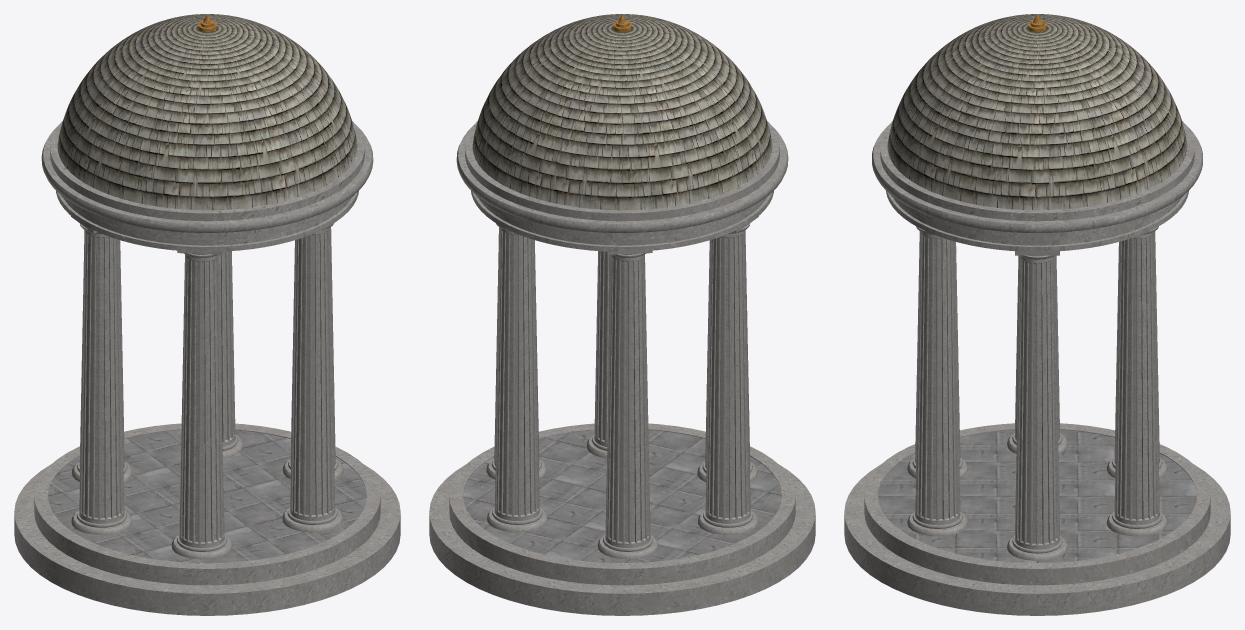
File: fbxMonopteros.fbx
3 views of the same model, side by side, from view 1: azimuth 30°, elevation 25°; view 2: azimuth 150°, elevation 25°; view 3: azimuth 270°, elevation 25° (orthographic).
Visible parts, largest first — view 1: dome, floor, Column18, Column15, Column17, Column20, Column16, Column19; view 2: dome, floor, Column19, Column15, Column20, Column17, Column16, Column18; view 3: dome, floor, Column16, Column17, Column20, Column15, Column19, Column18.
Boxes of the visible parts, x1=… form: dome: x1=41, y1=14, x2=373, y2=251; floor: x1=14, y1=423, x2=400, y2=615; Column18: x1=171, y1=250, x2=232, y2=559; Column15: x1=71, y1=216, x2=132, y2=534; Column17: x1=282, y1=223, x2=342, y2=532; Column20: x1=219, y1=251, x2=243, y2=458; Column16: x1=282, y1=227, x2=343, y2=479; Column19: x1=72, y1=230, x2=132, y2=482; dome: x1=456, y1=14, x2=788, y2=251; floor: x1=429, y1=423, x2=815, y2=615; Column19: x1=597, y1=250, x2=658, y2=559; Column15: x1=697, y1=216, x2=758, y2=534; Column20: x1=487, y1=223, x2=547, y2=532; Column17: x1=586, y1=251, x2=610, y2=458; Column16: x1=486, y1=227, x2=547, y2=479; Column18: x1=697, y1=230, x2=757, y2=482; dome: x1=872, y1=14, x2=1202, y2=251; floor: x1=844, y1=423, x2=1230, y2=615; Column16: x1=1007, y1=251, x2=1067, y2=560; Column17: x1=907, y1=226, x2=968, y2=536; Column20: x1=1106, y1=226, x2=1167, y2=536; Column15: x1=1007, y1=255, x2=1067, y2=453; Column19: x1=1106, y1=231, x2=1167, y2=477; Column18: x1=907, y1=231, x2=968, y2=477.
Size of the model in its own units: 2.55 by 3.79 by 2.55.
Materials: 4 (4 with a texture image).
